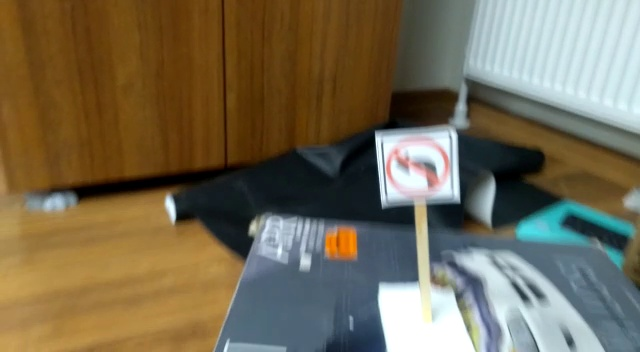sola_donulmez: (384, 133, 452, 199)
